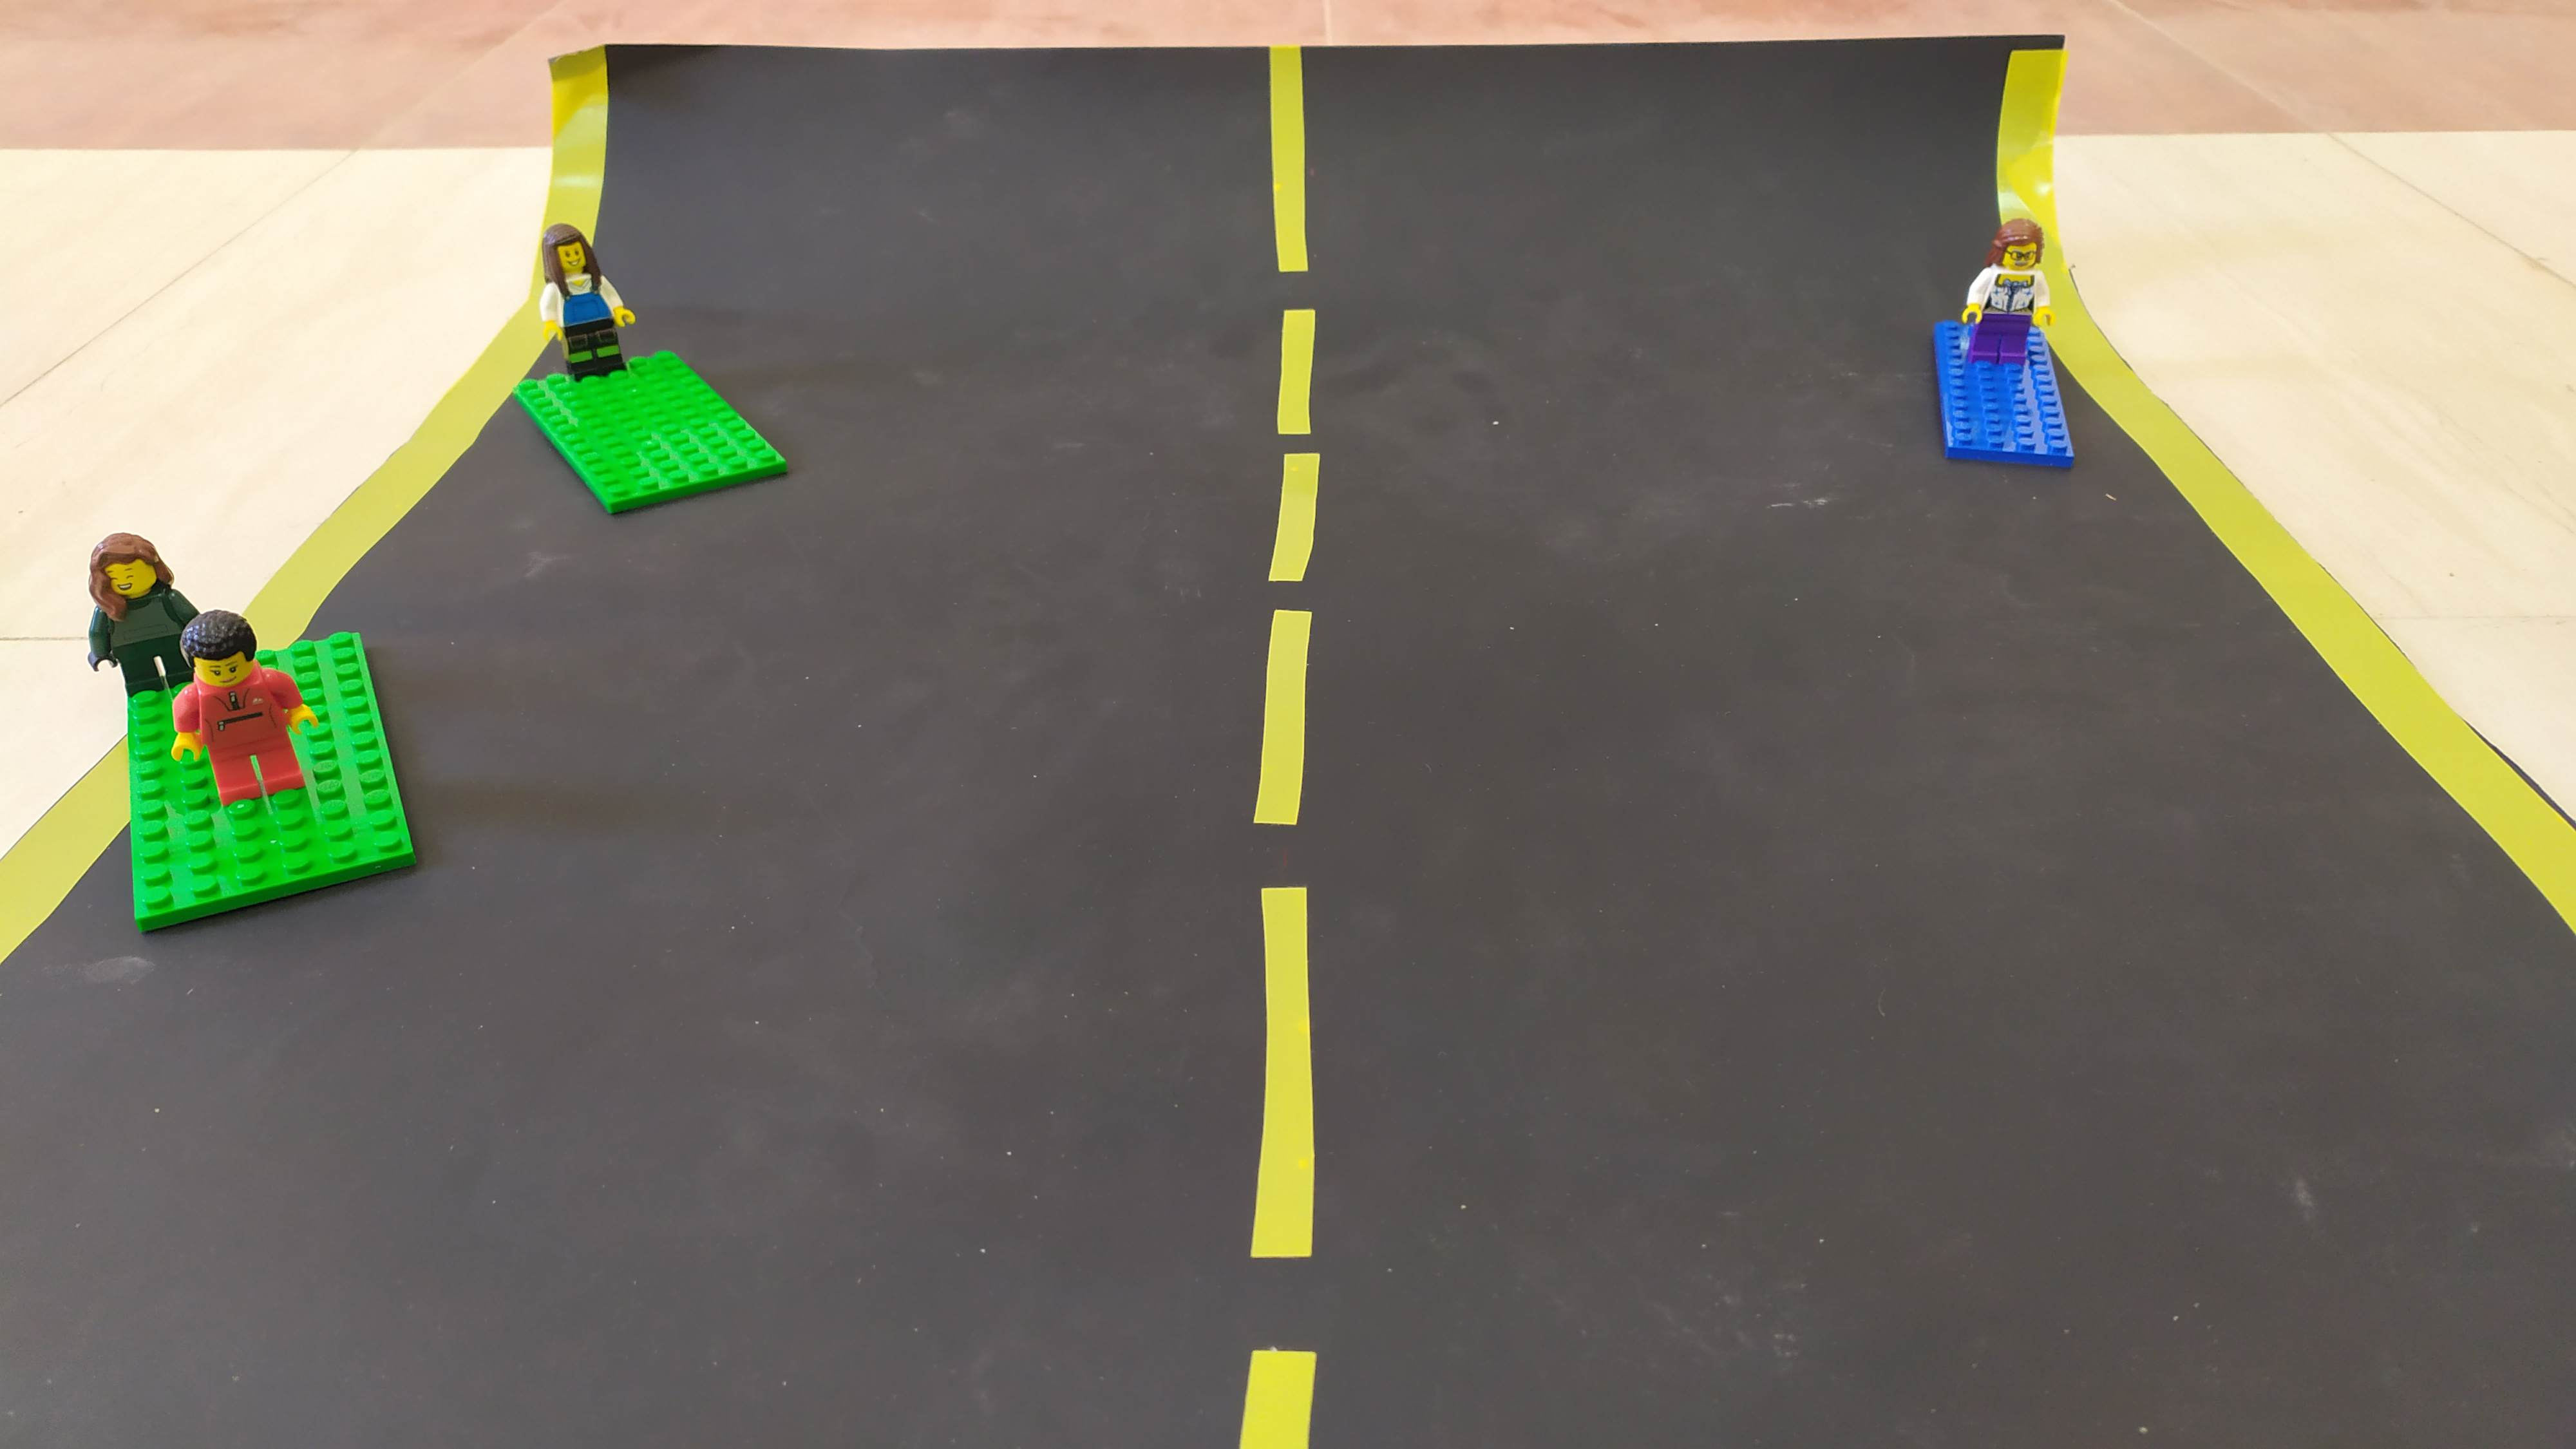Person: (151, 621, 299, 840), (74, 538, 184, 718), (1935, 229, 2070, 357), (531, 222, 621, 364)
